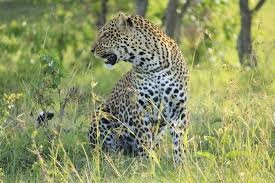leopard: (86, 9, 199, 169)
